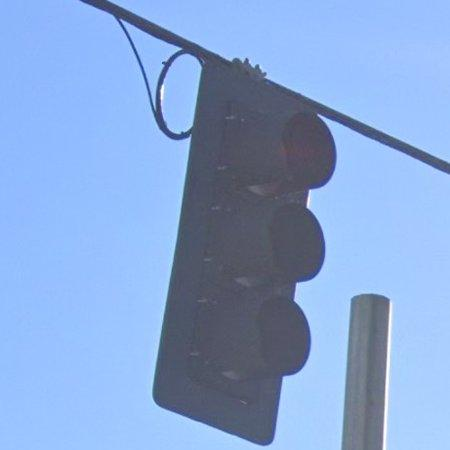traffic lights: (151, 58, 338, 447)
